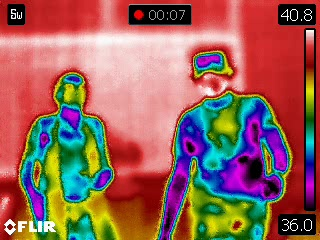human: (156, 43, 295, 240), (15, 67, 117, 240)
